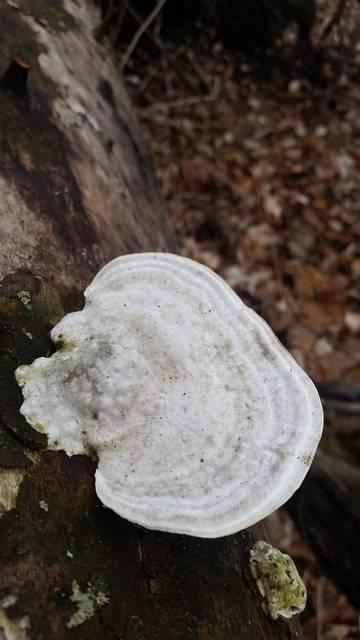Non-edible Mushroom: (14, 249, 325, 540)
